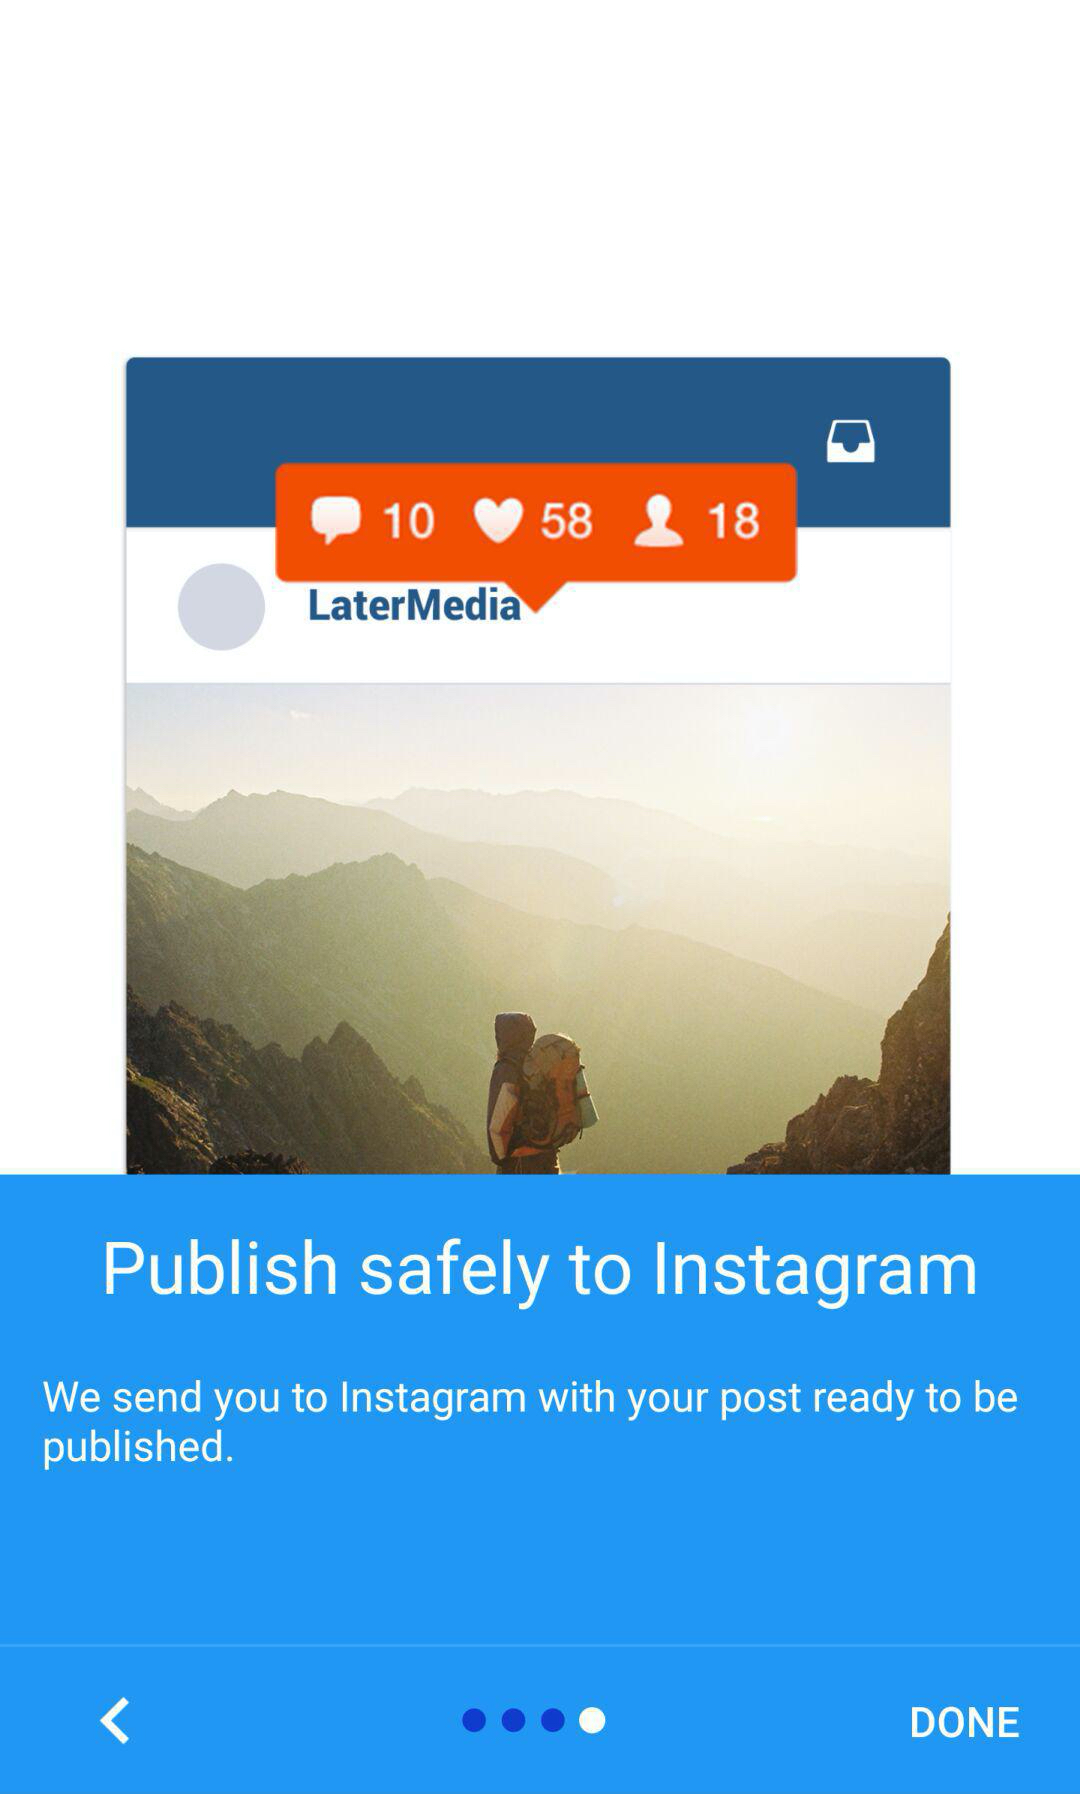Icon: (99, 1697, 133, 1745)
Image: (126, 358, 953, 1176)
PageIndicator: (460, 1706, 609, 1736)
Text: (42, 1378, 1019, 1474), (105, 1237, 978, 1313), (910, 1706, 1021, 1739)
